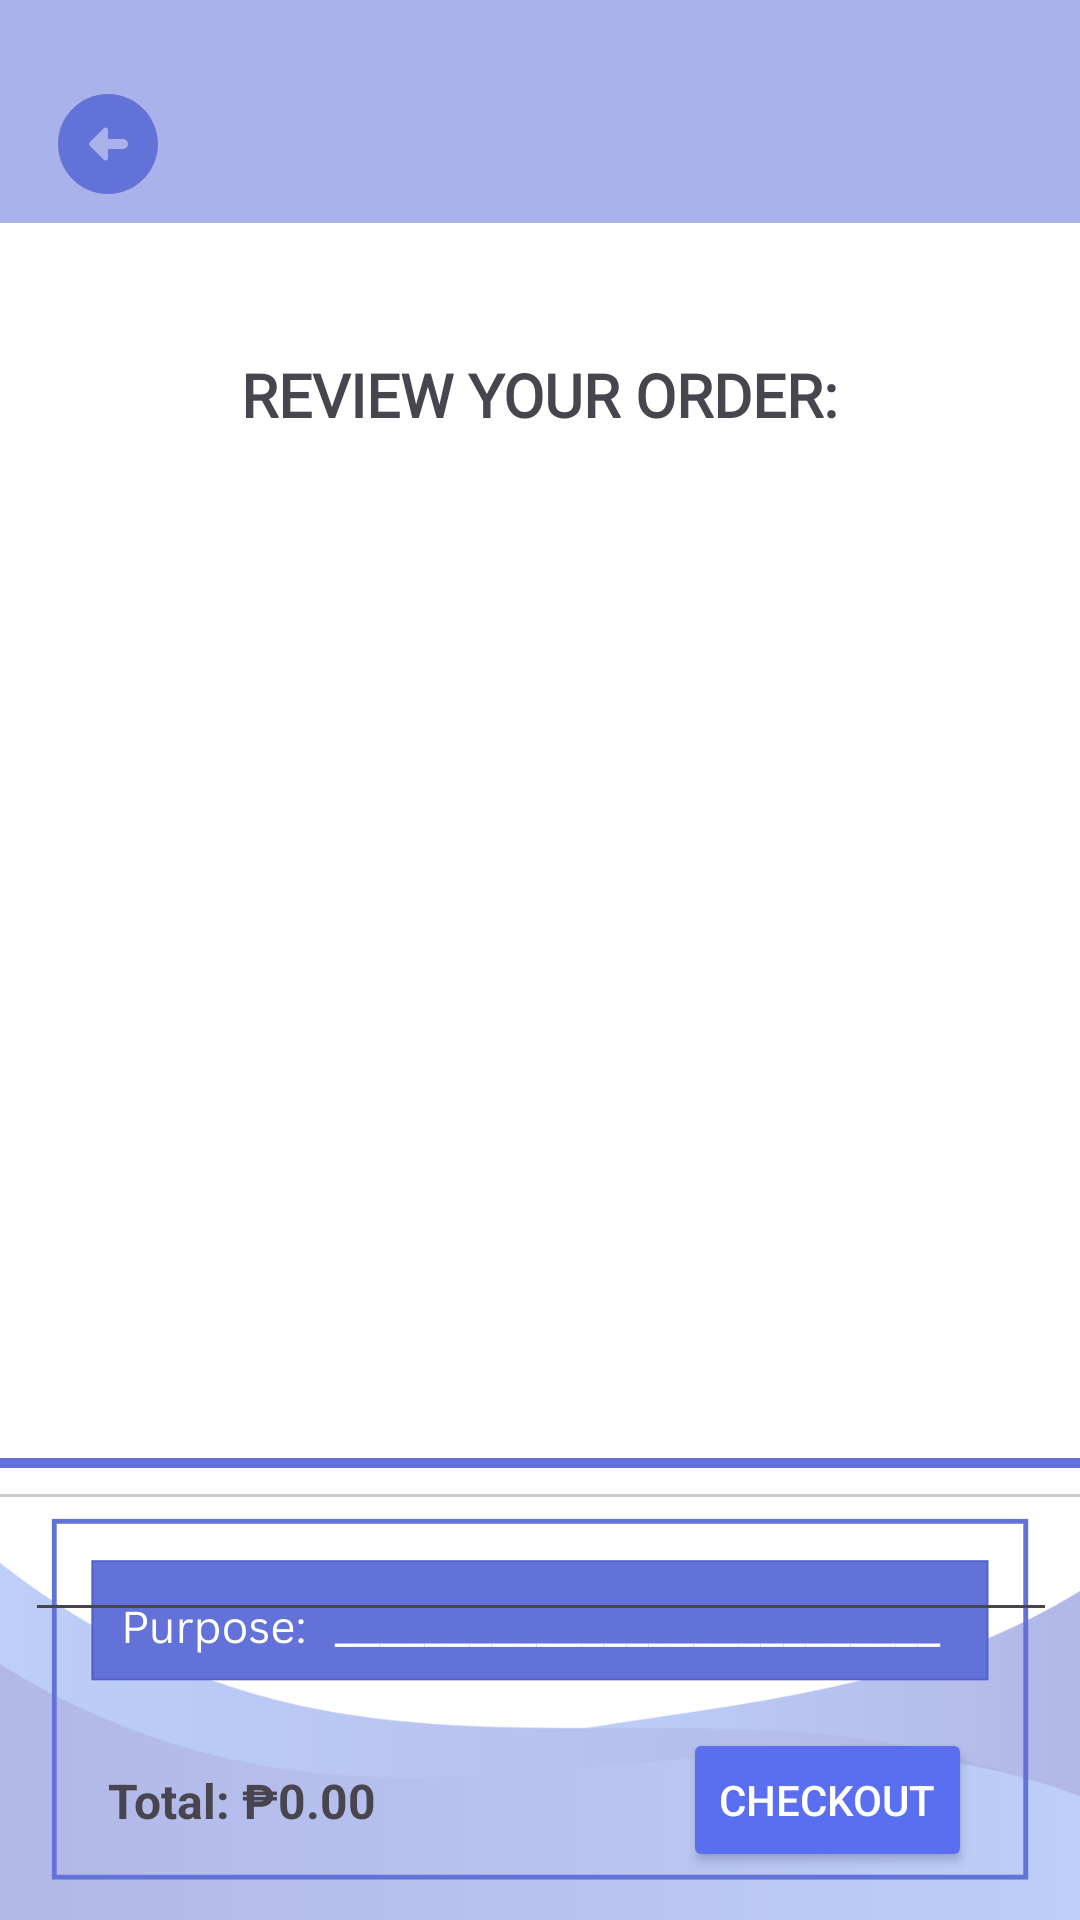

Screen size 1080 x 1920. Icon name, then its center in pixels as point (x, y):
arrow back: point (108, 144)
